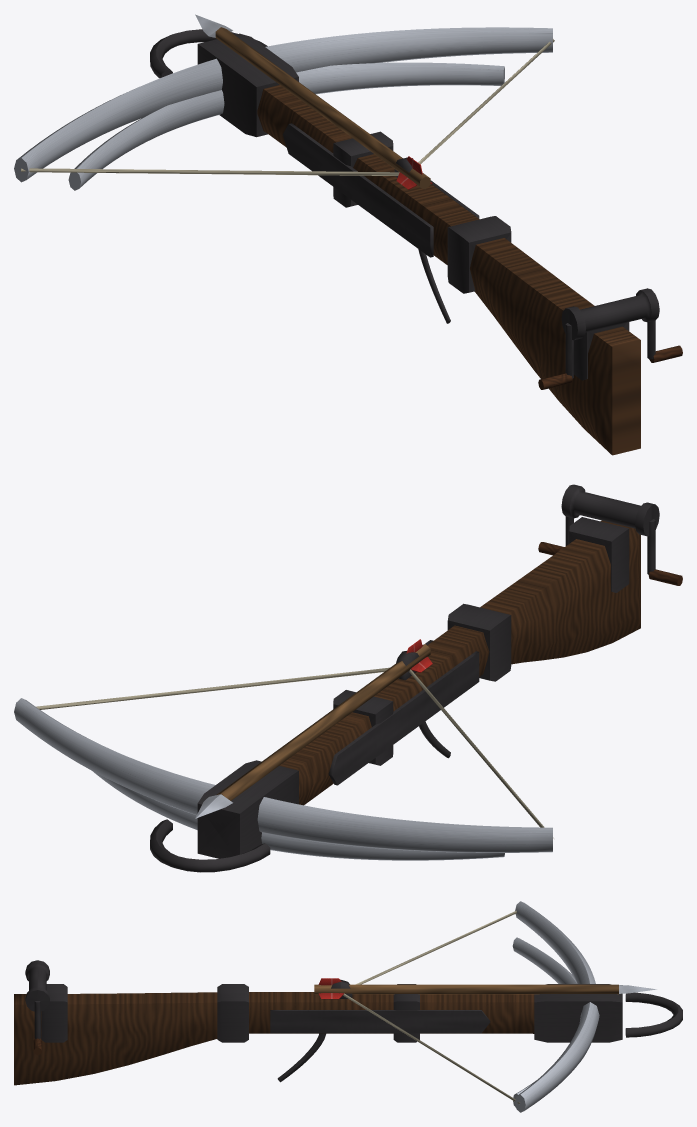
File: SiegeCrossbow.glb
The picture shows the model from 3 angles, top to bottom: view 1: azimuth 30°, elevation 25°; view 2: azimuth 150°, elevation 25°; view 3: azimuth 270°, elevation 25°; orthographic projection. The views are drawn at different scales.
Visible parts, largest first — view 1: SiegeCrossbow; view 2: SiegeCrossbow; view 3: SiegeCrossbow.
Boxes of the visible parts, x1=… form: SiegeCrossbow: x1=14, y1=14, x2=682, y2=455; SiegeCrossbow: x1=14, y1=484, x2=682, y2=872; SiegeCrossbow: x1=14, y1=901, x2=682, y2=1112.
Bounding box in the file's own units: 2.64 × 0.6703 × 3.8.
Materials: 1 (1 with a texture image).
